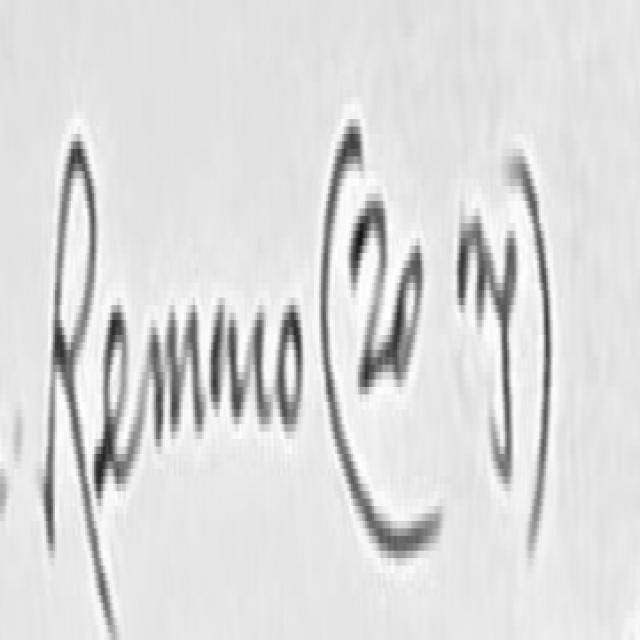2: (351, 201, 394, 383), (392, 246, 424, 376)
R: (46, 141, 115, 636)
m: (129, 305, 206, 457), (211, 305, 269, 424)
o: (278, 305, 303, 420)
r: (94, 305, 143, 495)
